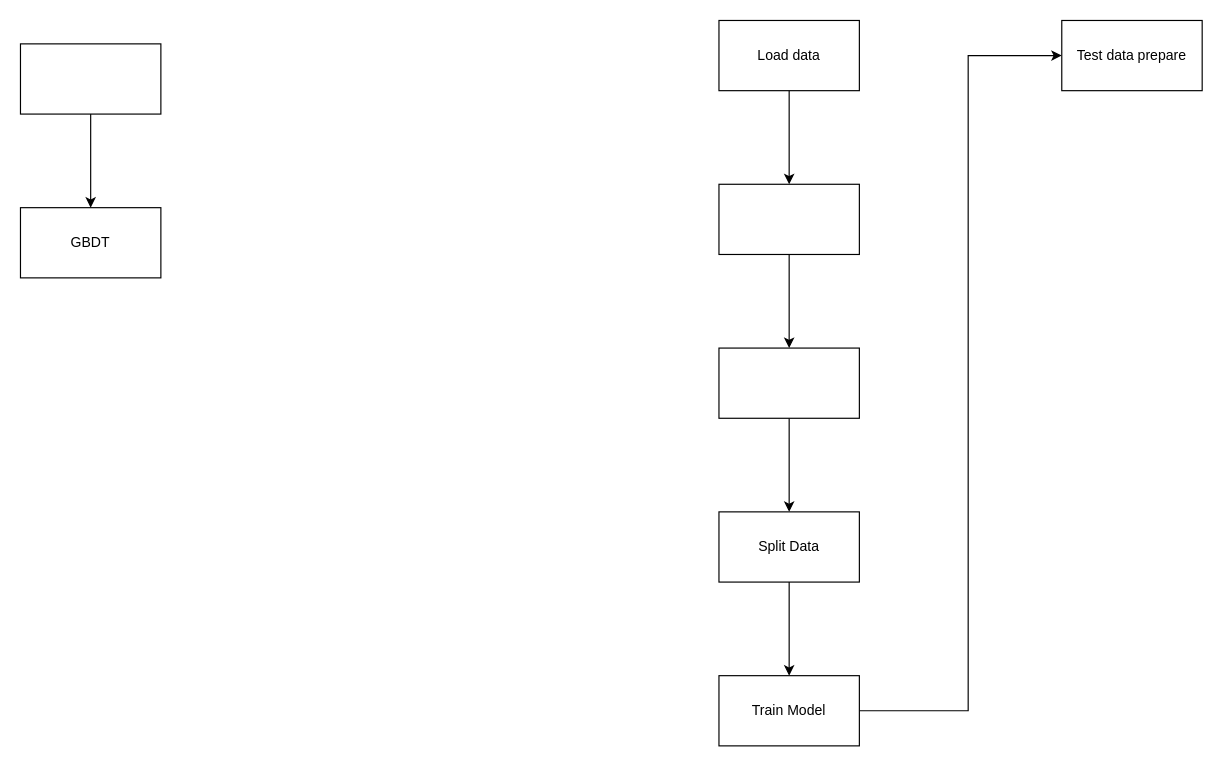
Image size: 1223x766. Some labels were removed from this diagram. The shapes that lost their labels are listed below. From the top down, each one's centre as x and y in pixels, then its label:
[90,78]: Random forest
[788,218]: Handle missing values
[788,382]: Data Preprocessing
